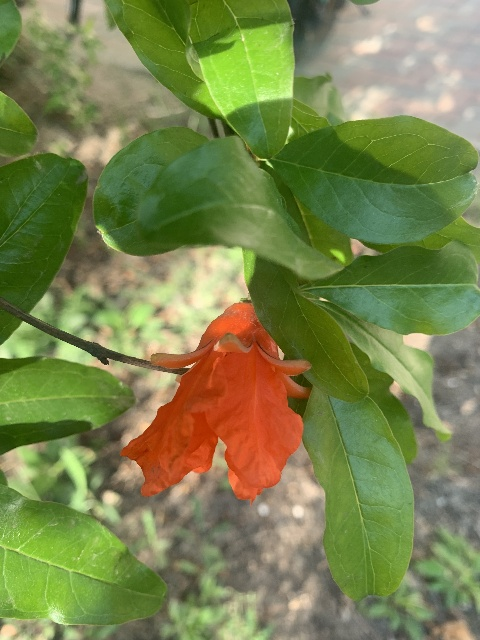flower: (120, 301, 313, 504)
